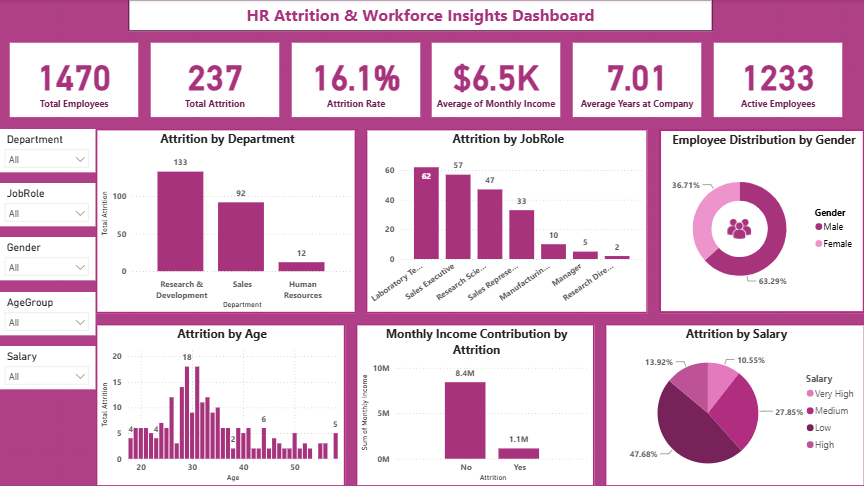

The dashboard page shown, as its layout file describes it:
{"tool":"powerbi","page":{"name":"HR Dashboard","canvas":[1283,720],"ordinal":1},"visuals":[{"type":"card","fields":{"Values":["HR-Employee-Attrition.Total Employees"]},"box":[16,64,192,112],"z":0},{"type":"card","fields":{"Values":["HR-Employee-Attrition.Total Attrition"]},"box":[224,64,192,112],"z":1000},{"type":"card","fields":{"Values":["HR-Employee-Attrition.Attrition Rate"]},"box":[432,64,192,112],"z":2000},{"type":"card","fields":{"Values":["Avg(HR-Employee-Attrition.MonthlyIncome)"]},"box":[640,64,192,112],"z":3000},{"type":"card","fields":{"Values":["HR-Employee-Attrition.Average Years at Company"]},"box":[848,64,192,112],"z":4000},{"type":"clusteredColumnChart","title":"Attrition by Department","fields":{"Category":["HR-Employee-Attrition.Department"],"Y":["CountNonNull(HR-Employee-Attrition.Attrition)"]},"box":[144,192,384,272],"z":5000},{"type":"clusteredColumnChart","title":" Attrition by JobRole","fields":{"Y":["CountNonNull(HR-Employee-Attrition.Attrition)"],"Category":["HR-Employee-Attrition.JobRole"]},"box":[544,192,416,272],"z":6000},{"type":"donutChart","title":"Employee Distribution by Gender","fields":{"Y":["CountNonNull(HR-Employee-Attrition.Attrition)"],"Category":["HR-Employee-Attrition.Gender"]},"box":[976,192,304,272],"z":7000},{"type":"clusteredColumnChart","title":"Attrition by Age","fields":{"Category":["HR-Employee-Attrition.Age"],"Y":["CountNonNull(HR-Employee-Attrition.Attrition)"]},"box":[144,480,368,240],"z":8000},{"type":"card","fields":{"Values":["HR-Employee-Attrition.Active Employees"]},"box":[1056,64,192,112],"z":9000},{"type":"pieChart","title":"Attrition by Salary","fields":{"Category":["HR-Employee-Attrition.Salary"],"Y":["CountNonNull(HR-Employee-Attrition.Attrition)"]},"box":[896,480,384,240],"z":10000},{"type":"textbox","box":[192,0,864,48],"z":11000},{"type":"slicer","fields":{"Values":["HR-Employee-Attrition.Department"]},"box":[0,192,144,64],"z":12000},{"type":"slicer","fields":{"Values":["HR-Employee-Attrition.JobRole"]},"box":[0,272,144,64],"z":13000},{"type":"slicer","fields":{"Values":["HR-Employee-Attrition.Gender"]},"box":[0,352,144,64],"z":14000},{"type":"slicer","fields":{"Values":["HR-Employee-Attrition.AgeGroup"]},"box":[0,432,144,64],"z":15000},{"type":"slicer","fields":{"Values":["HR-Employee-Attrition.Salary"]},"box":[0,512,144,64],"z":16000},{"type":"clusteredColumnChart","title":"Monthly Income Contribution by Attrition","fields":{"Category":["HR-Employee-Attrition.Attrition"],"Y":["Sum(HR-Employee-Attrition.MonthlyIncome)"]},"box":[528,480,352,240],"z":17000}]}

Visuals, with their boxes in screenshot pixels (x1, y1, x2, y2), scaled from the page's 1283x720 canvas onto the 864x486 screenshot:
card - HR-Employee-Attrition.Total Employees: bbox(11, 43, 140, 119)
card - HR-Employee-Attrition.Total Attrition: bbox(151, 43, 280, 119)
card - HR-Employee-Attrition.Attrition Rate: bbox(291, 43, 420, 119)
card - Avg(HR-Employee-Attrition.MonthlyIncome): bbox(431, 43, 560, 119)
card - HR-Employee-Attrition.Average Years at Company: bbox(571, 43, 700, 119)
"Attrition by Department" clusteredColumnChart: bbox(97, 130, 356, 313)
" Attrition by JobRole" clusteredColumnChart: bbox(366, 130, 646, 313)
"Employee Distribution by Gender" donutChart: bbox(657, 130, 862, 313)
"Attrition by Age" clusteredColumnChart: bbox(97, 324, 345, 485)
card - HR-Employee-Attrition.Active Employees: bbox(711, 43, 840, 119)
"Attrition by Salary" pieChart: bbox(603, 324, 862, 485)
textbox: bbox(129, 0, 711, 32)
slicer - HR-Employee-Attrition.Department: bbox(0, 130, 97, 173)
slicer - HR-Employee-Attrition.JobRole: bbox(0, 184, 97, 227)
slicer - HR-Employee-Attrition.Gender: bbox(0, 238, 97, 281)
slicer - HR-Employee-Attrition.AgeGroup: bbox(0, 292, 97, 335)
slicer - HR-Employee-Attrition.Salary: bbox(0, 346, 97, 389)
"Monthly Income Contribution by Attrition" clusteredColumnChart: bbox(356, 324, 593, 485)
